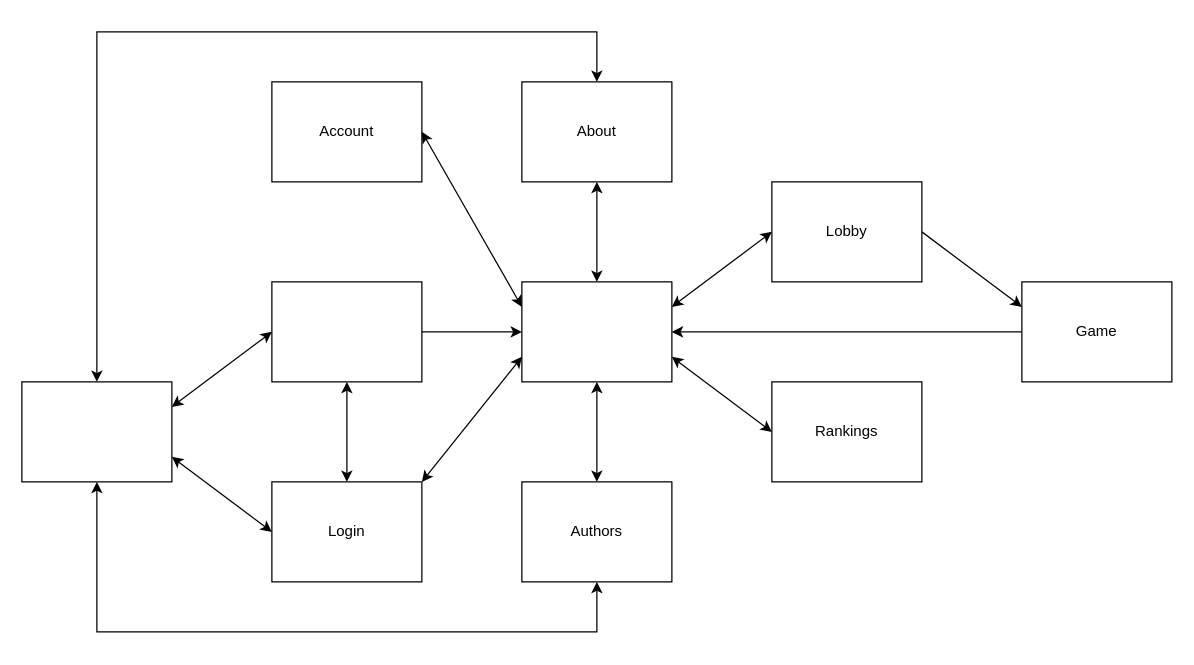
Image size: 1194x665. Some labels were removed from this diagram. Each missing label, with the centre of its shape:
"CreateAccount" goes at point 346,331.
"Home" goes at point 596,331.
"Start" goes at point 96,431.
